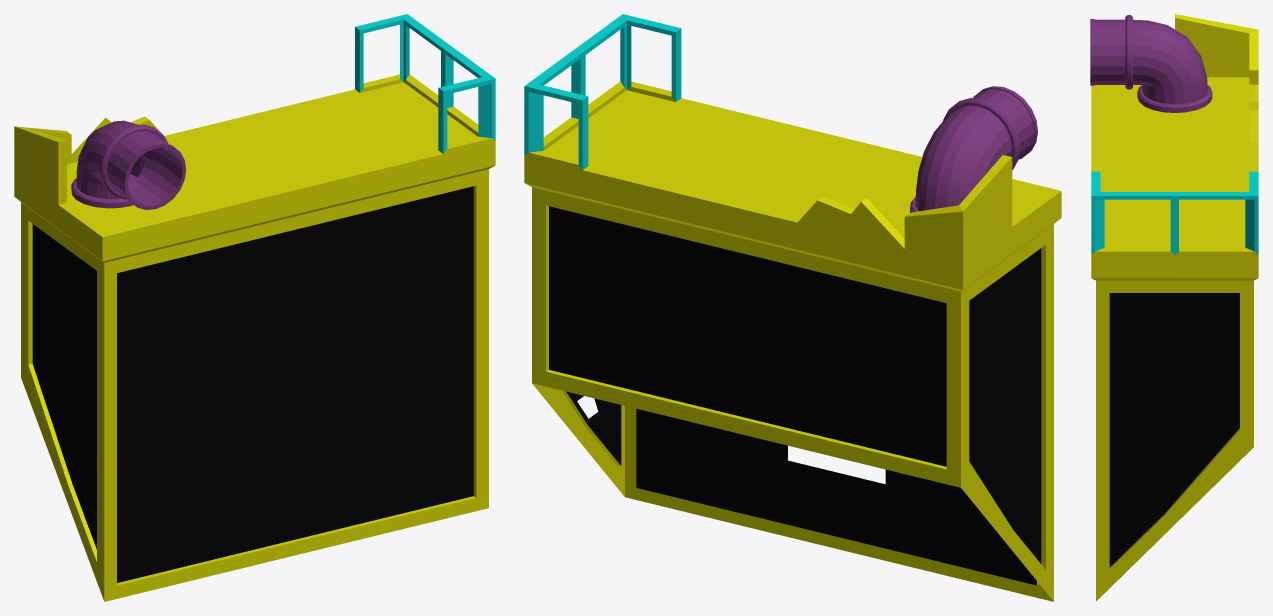
File: GooSpillageBuilding1.fbx
3 views of the same model, side by side, from view 1: azimuth 30°, elevation 25°; view 2: azimuth 150°, elevation 25°; view 3: azimuth 270°, elevation 25° (orthographic). The views are drawn at different scales.
Parts seen in each view (by area): view 1: polySurface1; view 2: polySurface1; view 3: polySurface1.
Part boxes in pixels (box(x1,y1,x2,y2)): polySurface1: box(14, 14, 495, 601); polySurface1: box(524, 14, 1061, 601); polySurface1: box(1090, 14, 1258, 601).
Bounding box in the file's own units: 9.25 × 10.14 × 3.62.
